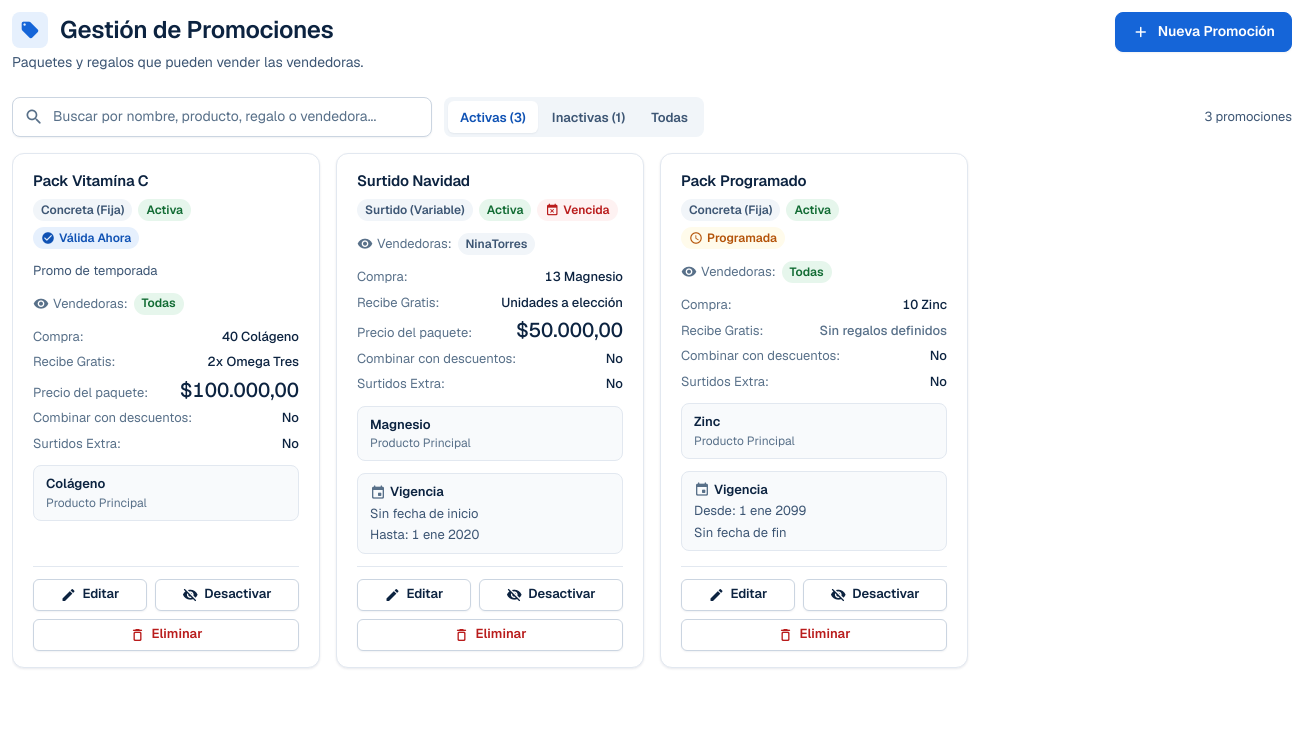
Test: chips de visibilidad: Todas, nombres asignados o ninguna
The image size is (1304, 732).
Expected: the heading "Pack Vitamína C" is shown, top-left (33, 171), bottom-right (149, 190)
Expected: the text "Todas" below "Promo de temporada" is shown, top-left (142, 295), bottom-right (176, 311)
Click the tab "Inactivas (1)" at (588, 117), box top-left (540, 101), bottom-right (637, 133)
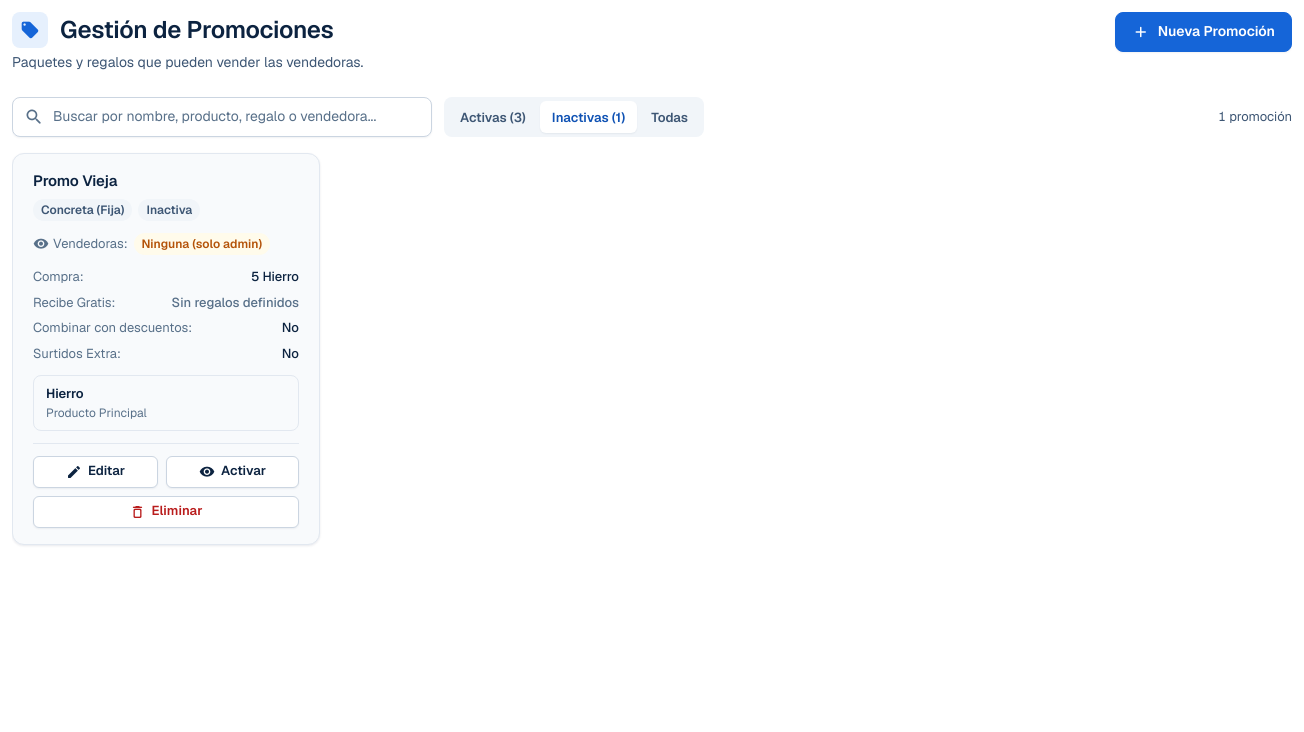
Expected: the text "Ninguna (solo admin)" is shown, top-left (134, 233), bottom-right (270, 255)
